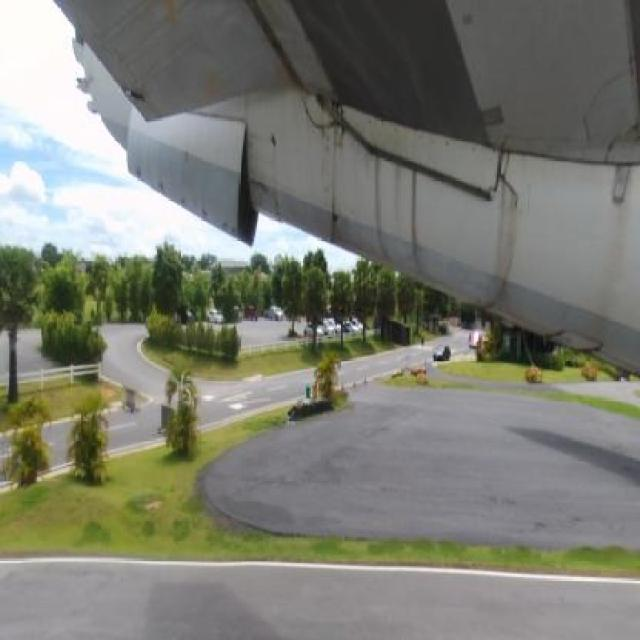Rust: (364, 141, 439, 294), (299, 82, 359, 255), (597, 154, 637, 368), (482, 152, 526, 312), (245, 124, 289, 210), (126, 1, 214, 42), (253, 32, 304, 98), (178, 57, 235, 109), (218, 205, 242, 250), (195, 197, 211, 231), (156, 171, 170, 200), (130, 162, 148, 184), (178, 188, 188, 212)
Scartch: (308, 113, 340, 162), (316, 162, 335, 202)
